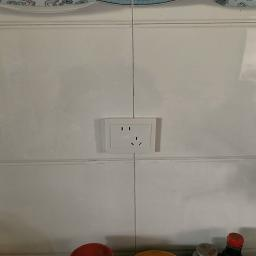outlet: (103, 112, 166, 156)
